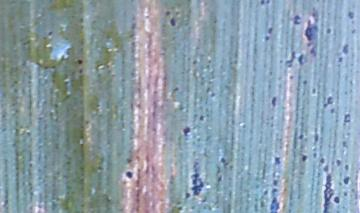tarspot: (303, 6, 319, 56), (190, 159, 205, 199), (321, 172, 332, 213), (282, 49, 297, 68), (268, 196, 282, 213), (168, 15, 178, 30), (342, 112, 352, 126), (296, 53, 306, 67), (291, 13, 301, 26), (312, 126, 319, 144), (181, 125, 191, 137), (340, 42, 350, 54), (325, 93, 333, 107), (346, 8, 356, 19), (270, 95, 278, 108), (75, 56, 85, 66), (272, 156, 282, 166), (218, 155, 228, 165), (124, 170, 135, 179), (332, 194, 341, 205), (343, 174, 350, 187), (125, 157, 135, 166), (76, 67, 85, 76), (299, 153, 308, 162), (171, 85, 180, 94), (208, 90, 216, 100), (216, 173, 223, 184), (324, 26, 332, 35), (342, 138, 349, 148), (310, 86, 317, 96), (47, 28, 53, 39), (215, 164, 221, 175), (322, 164, 330, 172), (287, 73, 295, 81), (343, 163, 350, 172), (272, 187, 279, 196), (334, 159, 341, 167), (183, 192, 191, 199), (328, 107, 336, 114), (321, 102, 328, 110), (267, 26, 274, 34), (163, 9, 171, 16), (198, 114, 205, 122), (271, 179, 279, 186), (176, 205, 183, 212), (337, 55, 343, 63), (350, 27, 356, 35), (204, 86, 210, 94), (298, 133, 304, 140), (319, 157, 325, 163), (264, 35, 270, 41), (259, 1, 265, 7), (301, 79, 307, 84), (265, 1, 272, 5), (349, 19, 354, 24), (313, 1, 321, 2)
